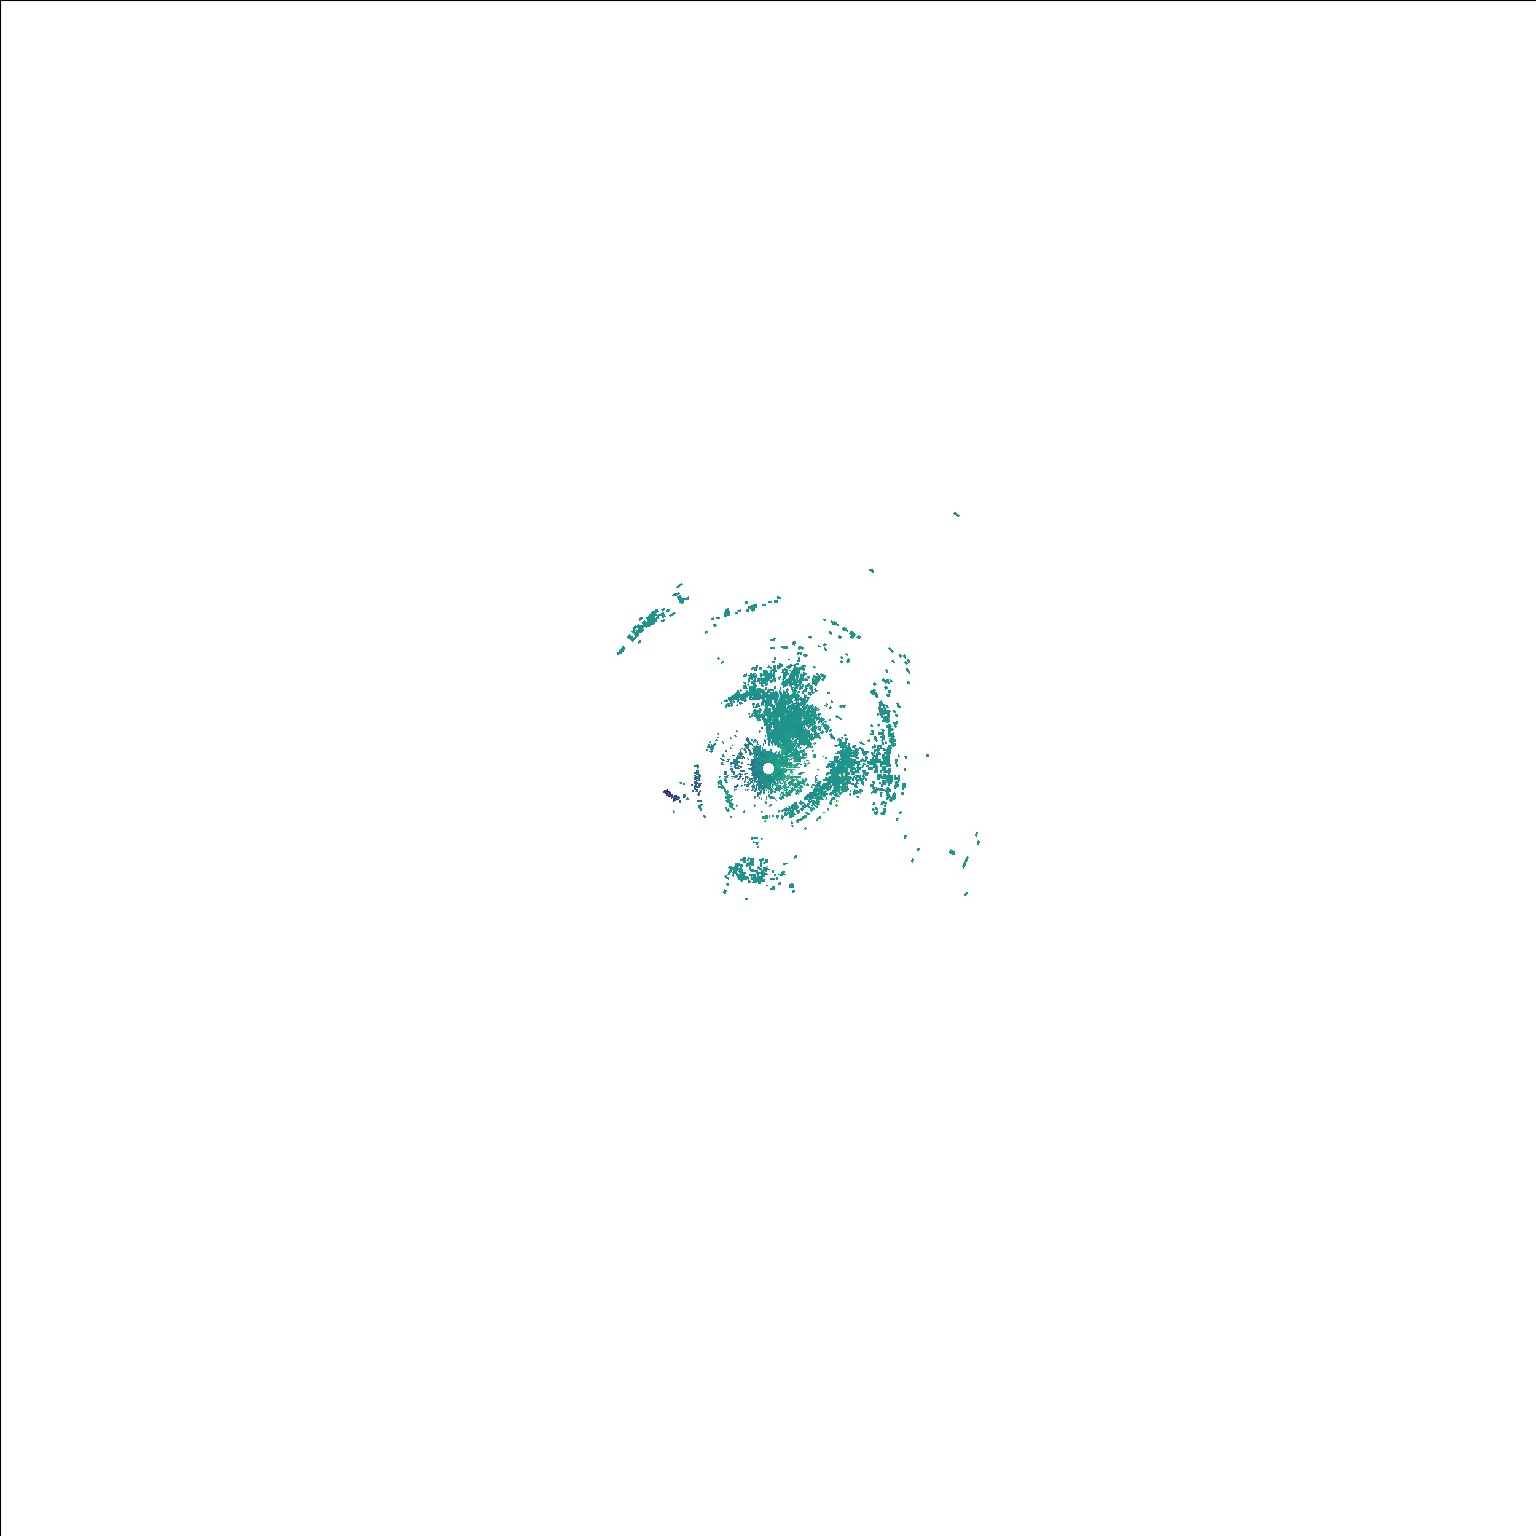fall: (660, 785, 684, 806)
